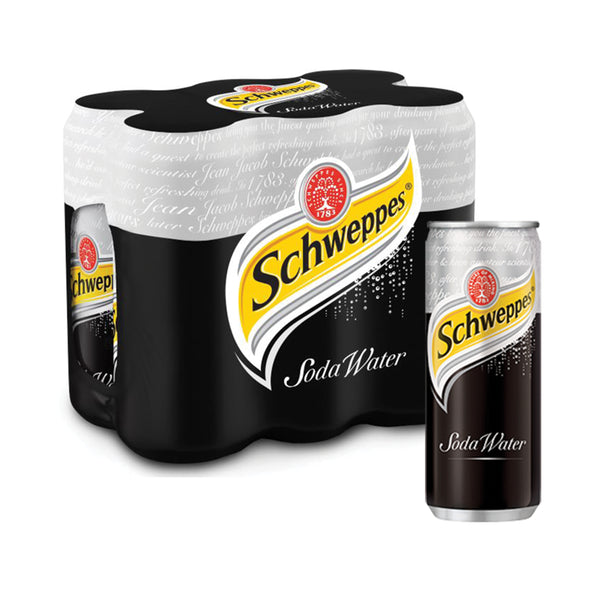Can: (416, 212, 547, 524)
